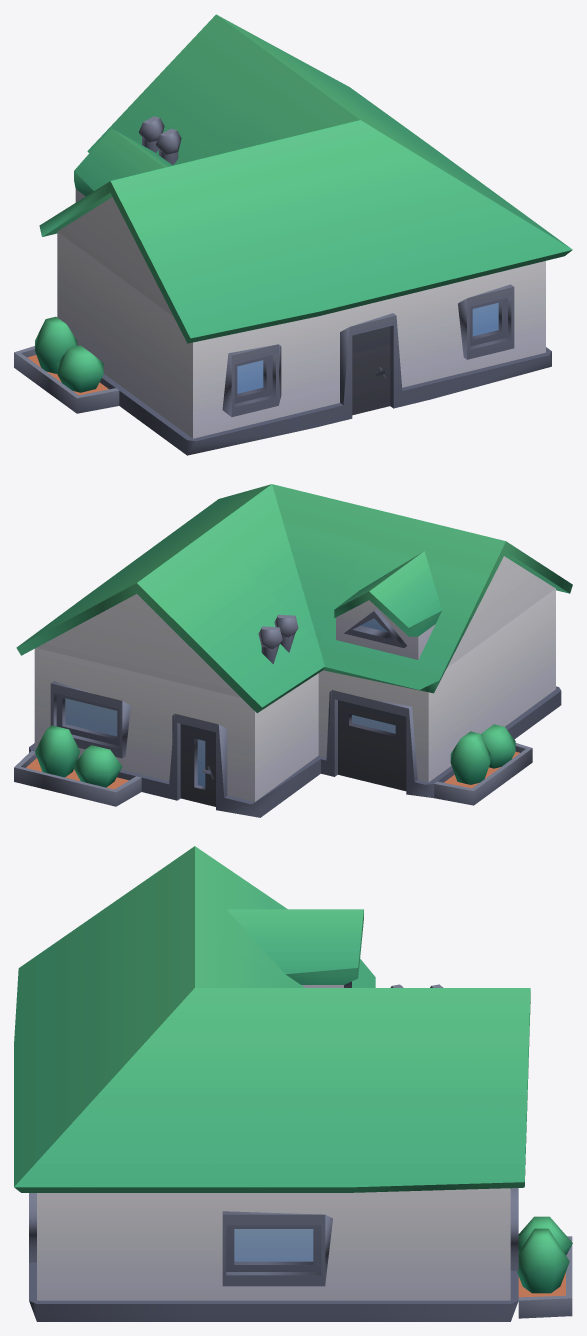
Rendered from 066_city-kit-suburban_building-type-m_card.glb.
3 renders of one model, top to bottom at view 1: azimuth 30°, elevation 25°; view 2: azimuth 150°, elevation 25°; view 3: azimuth 270°, elevation 25°, orthographic. The views are drawn at different scales.
Parts seen in each view (by area): view 1: building-type-m; view 2: building-type-m; view 3: building-type-m.
Boxes of the visible parts, x1,y1,x2,y2 form: building-type-m: (14,14,572,455); building-type-m: (14,484,572,817); building-type-m: (14,846,572,1321).
Size of the model in its own units: 1.42 by 0.7375 by 1.42.
Materials: 1 (1 with a texture image).
